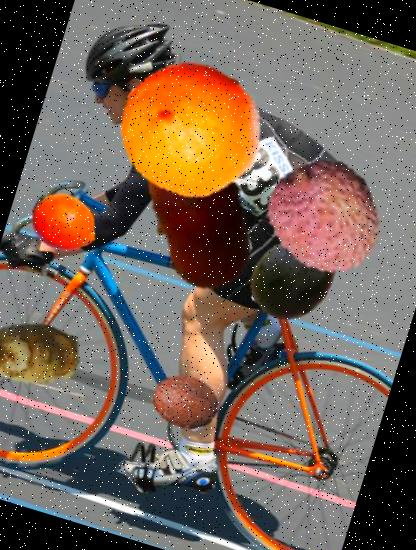Cocos: (143, 358, 228, 444)
Ginger: (0, 284, 95, 423)
Lemon: (101, 40, 280, 219)
Lychee: (250, 144, 400, 293)
Nectarine: (108, 126, 292, 310)
Plum: (235, 218, 355, 338)
Tangelo: (23, 182, 108, 266)
